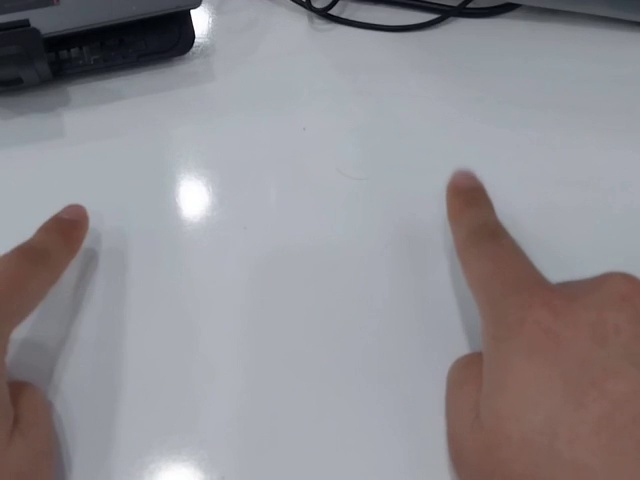fingers: (445, 166, 489, 214), (49, 203, 90, 251)
